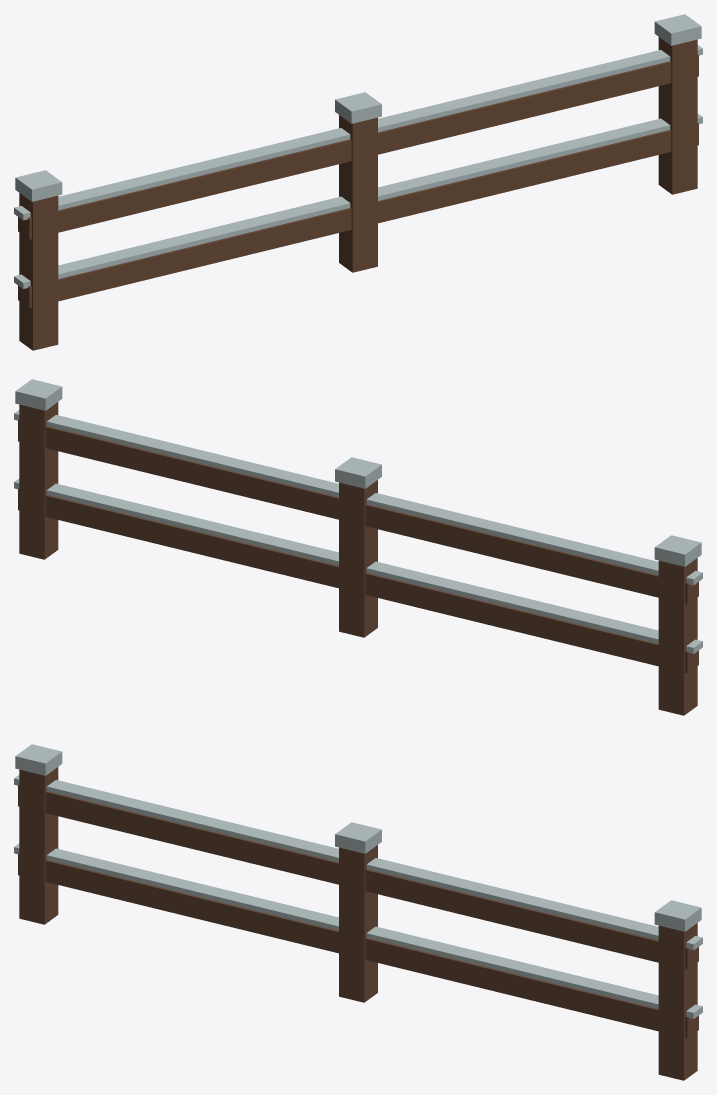
Rendered from footbridge-rail.glb.
3 views of the same model, one above another, from view 1: azimuth 30°, elevation 25°; view 2: azimuth 150°, elevation 25°; view 3: azimuth 330°, elevation 25° (orthographic).
Parts seen in each view (by area): view 1: footbridge-rail; view 2: footbridge-rail; view 3: footbridge-rail.
Boxes of the visible parts, x1,y1,x2,y2 form: footbridge-rail: (14, 14, 702, 350); footbridge-rail: (14, 379, 702, 715); footbridge-rail: (14, 744, 702, 1080).
Bounding box in the file's own units: 4.04 × 0.925 × 0.17.
